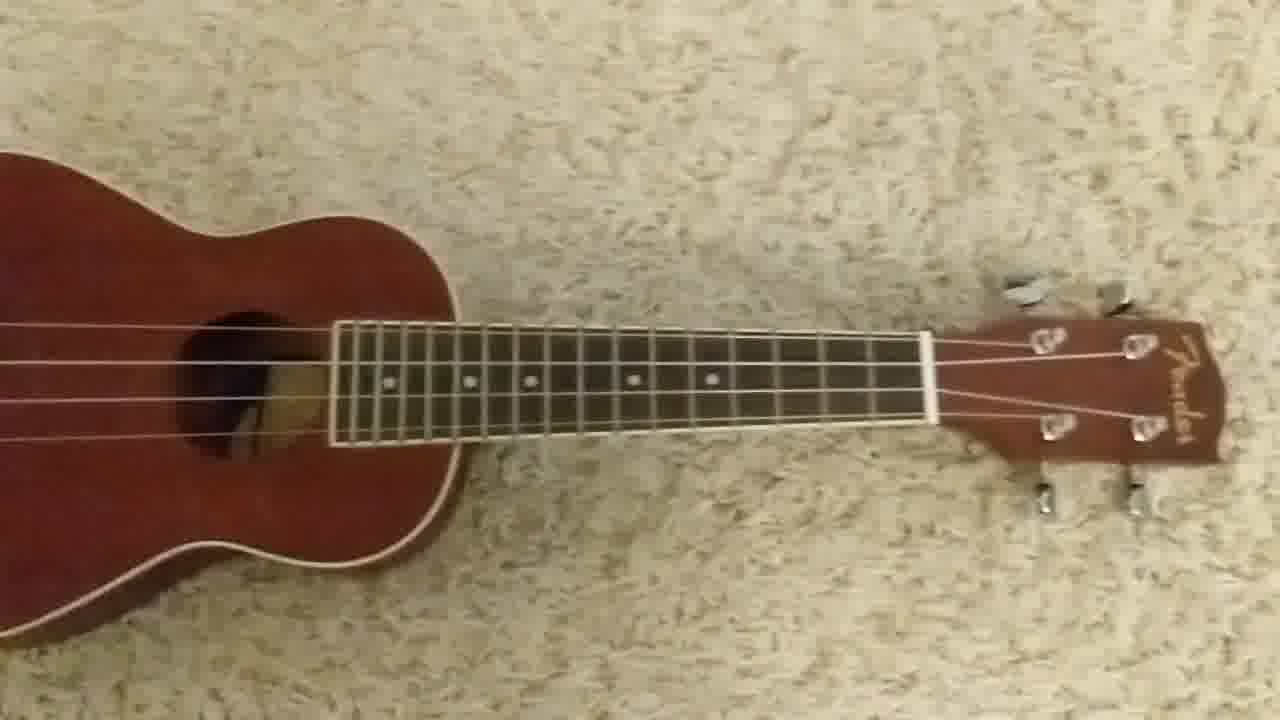Body: (1, 147, 471, 644)
Headstock: (937, 278, 1230, 527)
